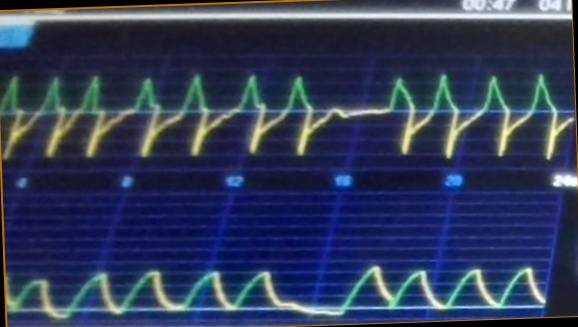Ineffective_effort Flow: (3, 66, 573, 163)
Ineffective_effort Volume: (8, 245, 545, 319)
